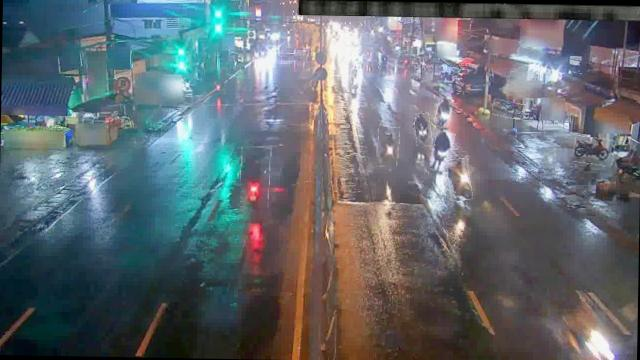Bike: (240, 147, 270, 207), (574, 136, 614, 166), (446, 158, 472, 201), (431, 131, 454, 171), (376, 126, 399, 166), (493, 100, 526, 119), (414, 114, 432, 146), (434, 97, 452, 127), (350, 68, 361, 93)
